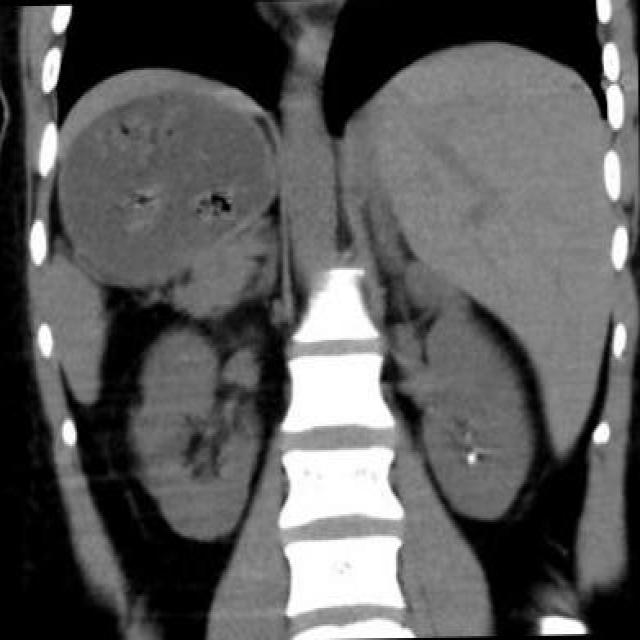Tas_Var: (463, 451, 477, 467)
